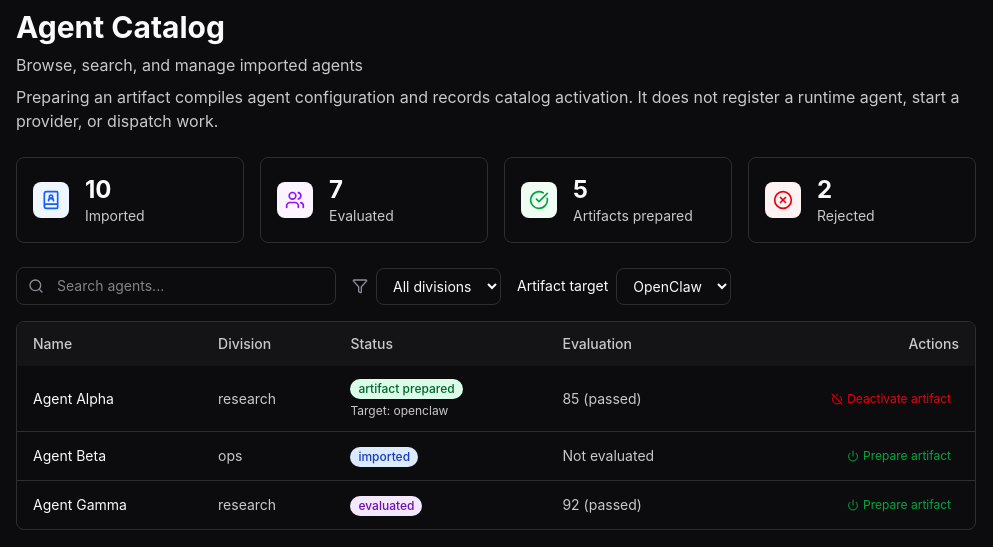
Scenario: AgentCatalogPage › refreshes the current division after an earlier activation finishes
The width and height of the screenshot is (993, 547).
Expected: the text "Agent Beta" is shown, [17,432,202,480]
Click the button "Prepare artifact" in the row of "Agent Gamma" at [899, 505], box [839,493,959,517]
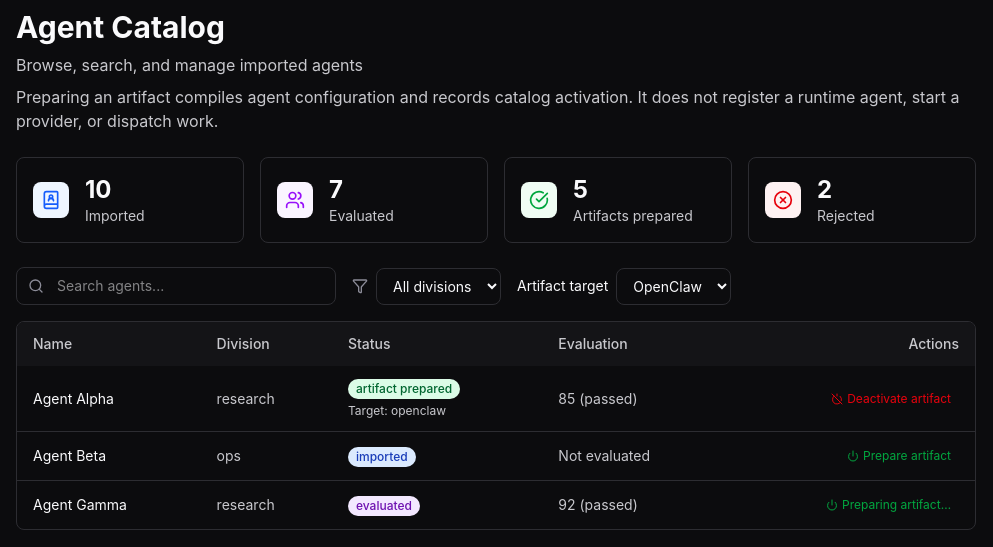
Select "research" in the dropdown named "Division" at [438, 286], box [376,268,501,304]
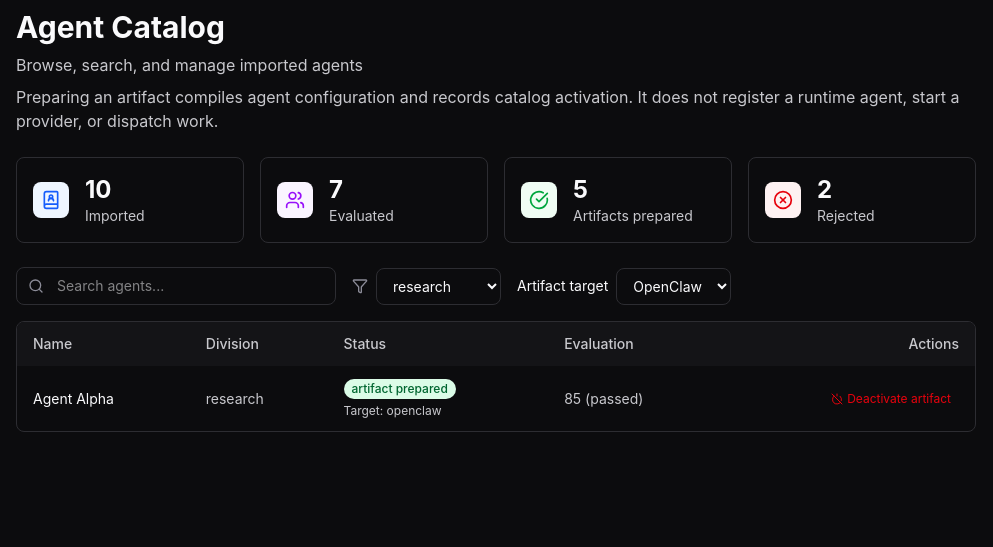
Now the text "Agent Beta" is gone
